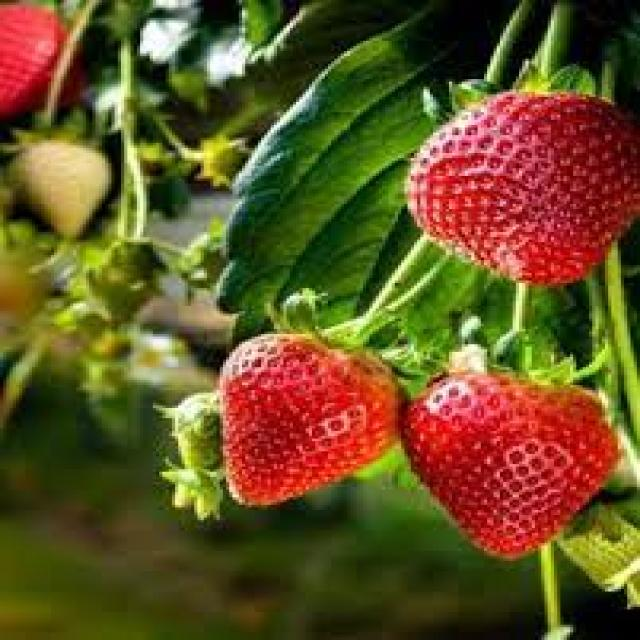strawberry: (396, 90, 640, 290), (399, 352, 619, 564), (194, 316, 403, 507)
